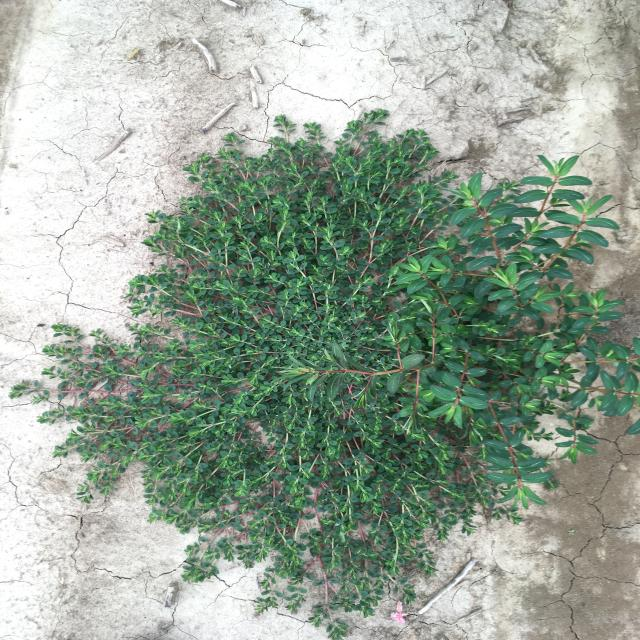SpottedSpurge: (8, 108, 640, 640)
